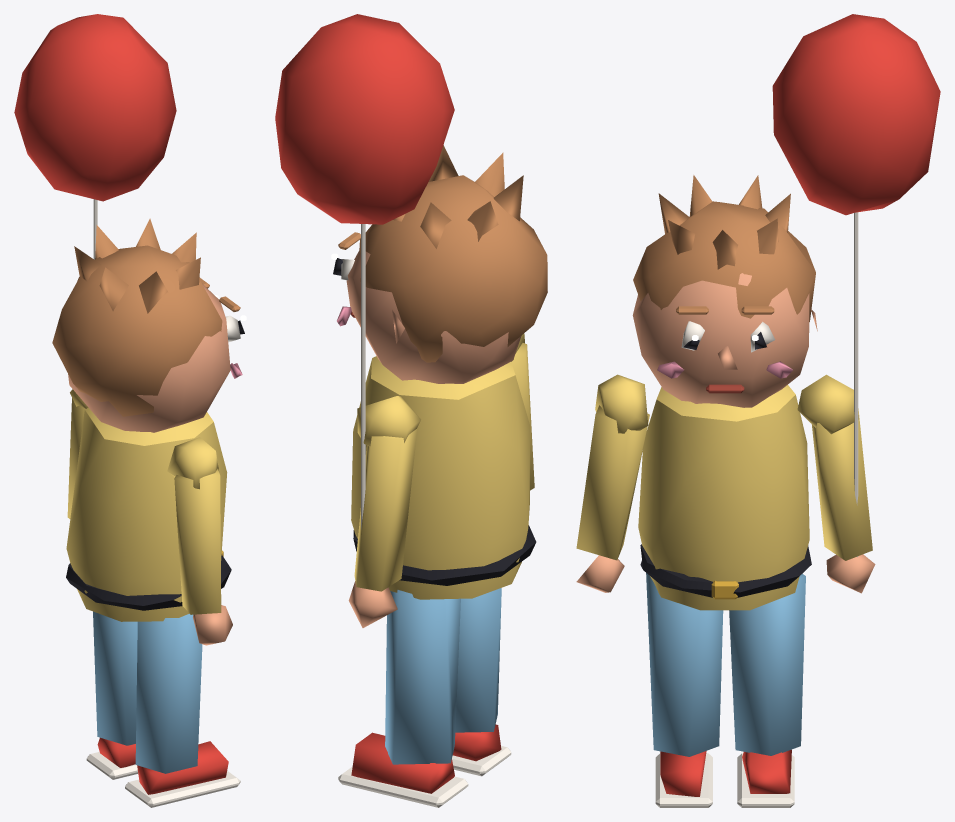
Rendered from ped_kid.glb.
The picture shows the model from 3 angles, left to right: view 1: azimuth 30°, elevation 25°; view 2: azimuth 150°, elevation 25°; view 3: azimuth 270°, elevation 25°; orthographic projection. The views are drawn at different scales.
Parts seen in each view (by area): view 1: ped_kid; view 2: ped_kid; view 3: ped_kid.
Part boxes in pixels (left/top/right/bottom): ped_kid: left=14, top=14, right=246, bottom=807; ped_kid: left=275, top=14, right=547, bottom=807; ped_kid: left=576, top=14, right=940, bottom=807.
Bounding box in the file's own units: 0.345 × 1.39 × 0.6013.
1 material, 1 textured.
